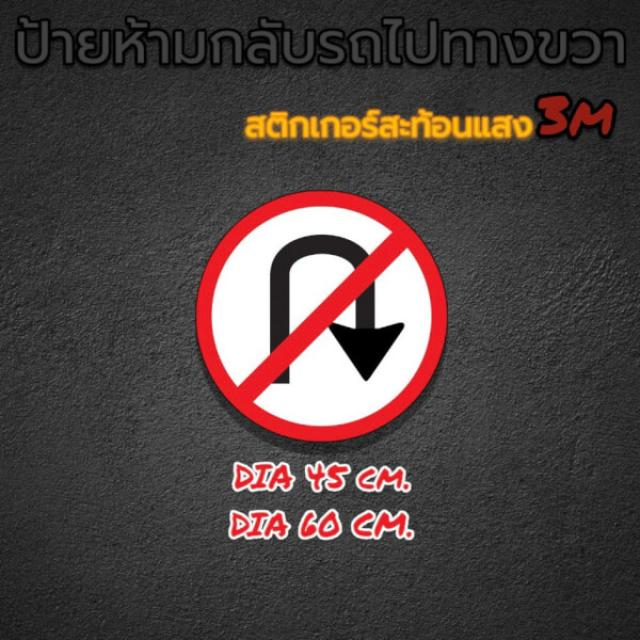Demi-Tour-Interdit: (188, 192, 462, 444)
